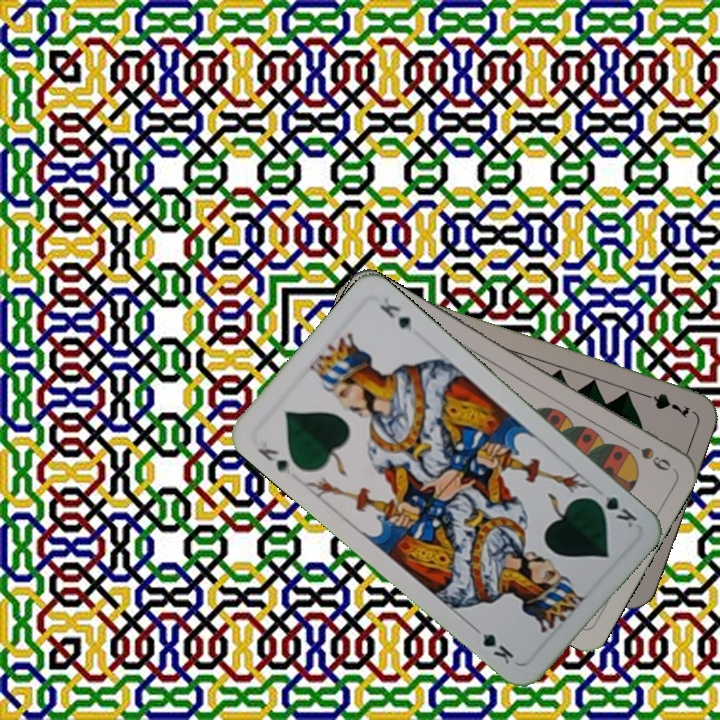G7: (635, 388, 693, 421)
GK: (587, 490, 640, 530), (254, 437, 294, 477)
S9: (621, 435, 674, 474)
